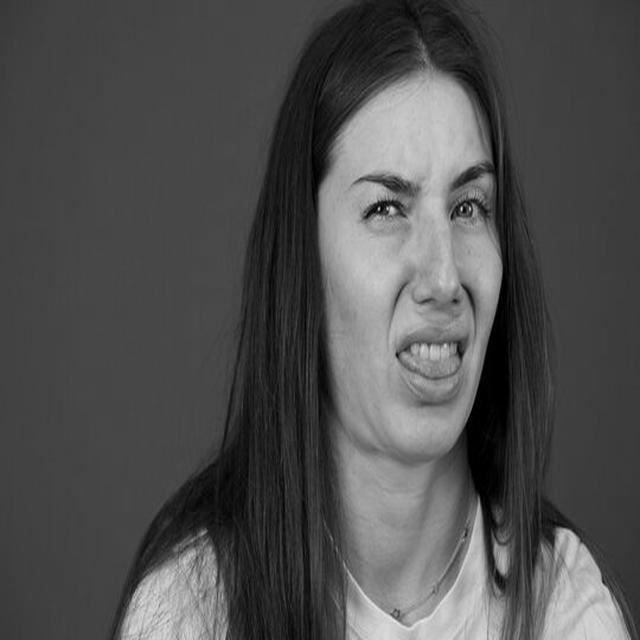Disgust: (318, 73, 504, 469)
